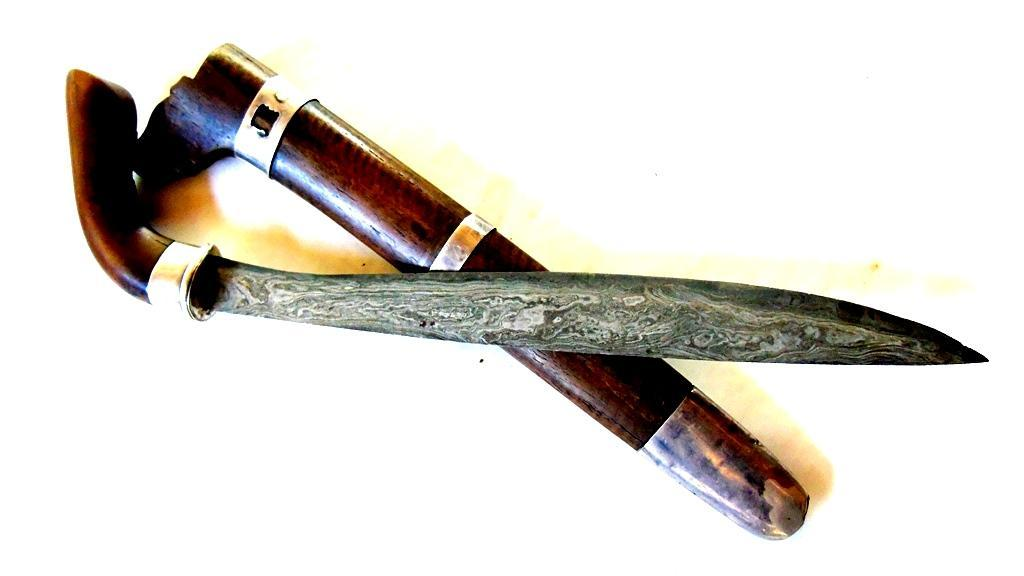facao: (66, 69, 986, 364)
